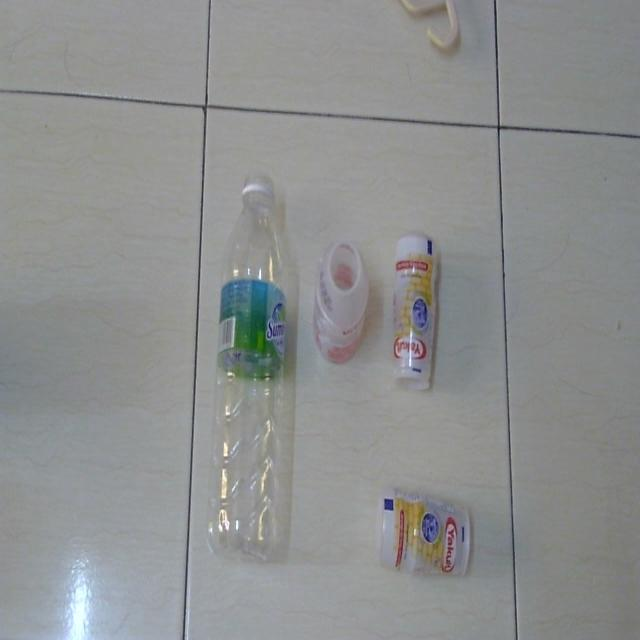plastic_laydown_0rotation: (372, 478, 472, 586)
plastic_laydown_90rotation: (206, 165, 291, 558), (388, 226, 445, 390)
plastic_standrotation: (310, 231, 373, 376)
